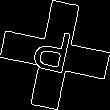P_S: (31, 27, 79, 83)
